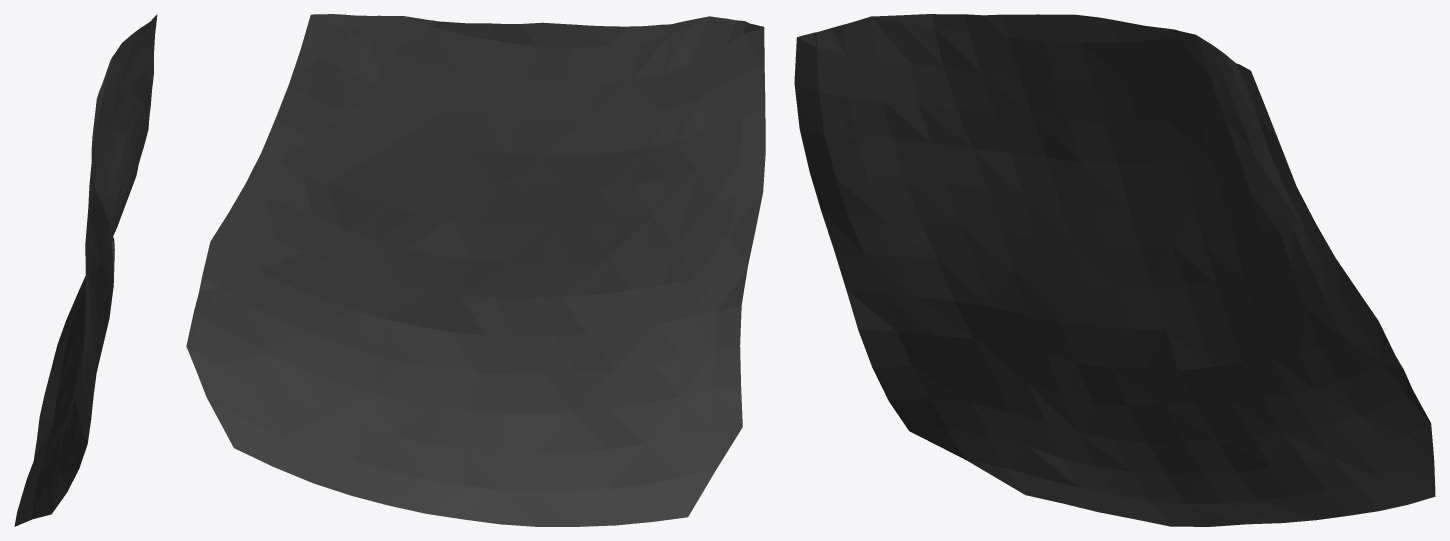
Rendered from eq_dist_limb_Middle_Scutum.glb.
3 renders of one model, left to right at view 1: azimuth 30°, elevation 25°; view 2: azimuth 150°, elevation 25°; view 3: azimuth 270°, elevation 25°, orthographic. The views are drawn at different scales.
Parts seen in each view (by area): view 1: eq_dist_limb_Middle_Scutum; view 2: eq_dist_limb_Middle_Scutum; view 3: eq_dist_limb_Middle_Scutum.
Part boxes in pixels (x1,y1,x2,y2): eq_dist_limb_Middle_Scutum: (14, 14, 157, 526); eq_dist_limb_Middle_Scutum: (186, 14, 765, 526); eq_dist_limb_Middle_Scutum: (794, 14, 1435, 526).
Size of the model in its own units: 0.00239 by 0.00352 by 0.00352.
Materials: 1 (1 with a texture image).
